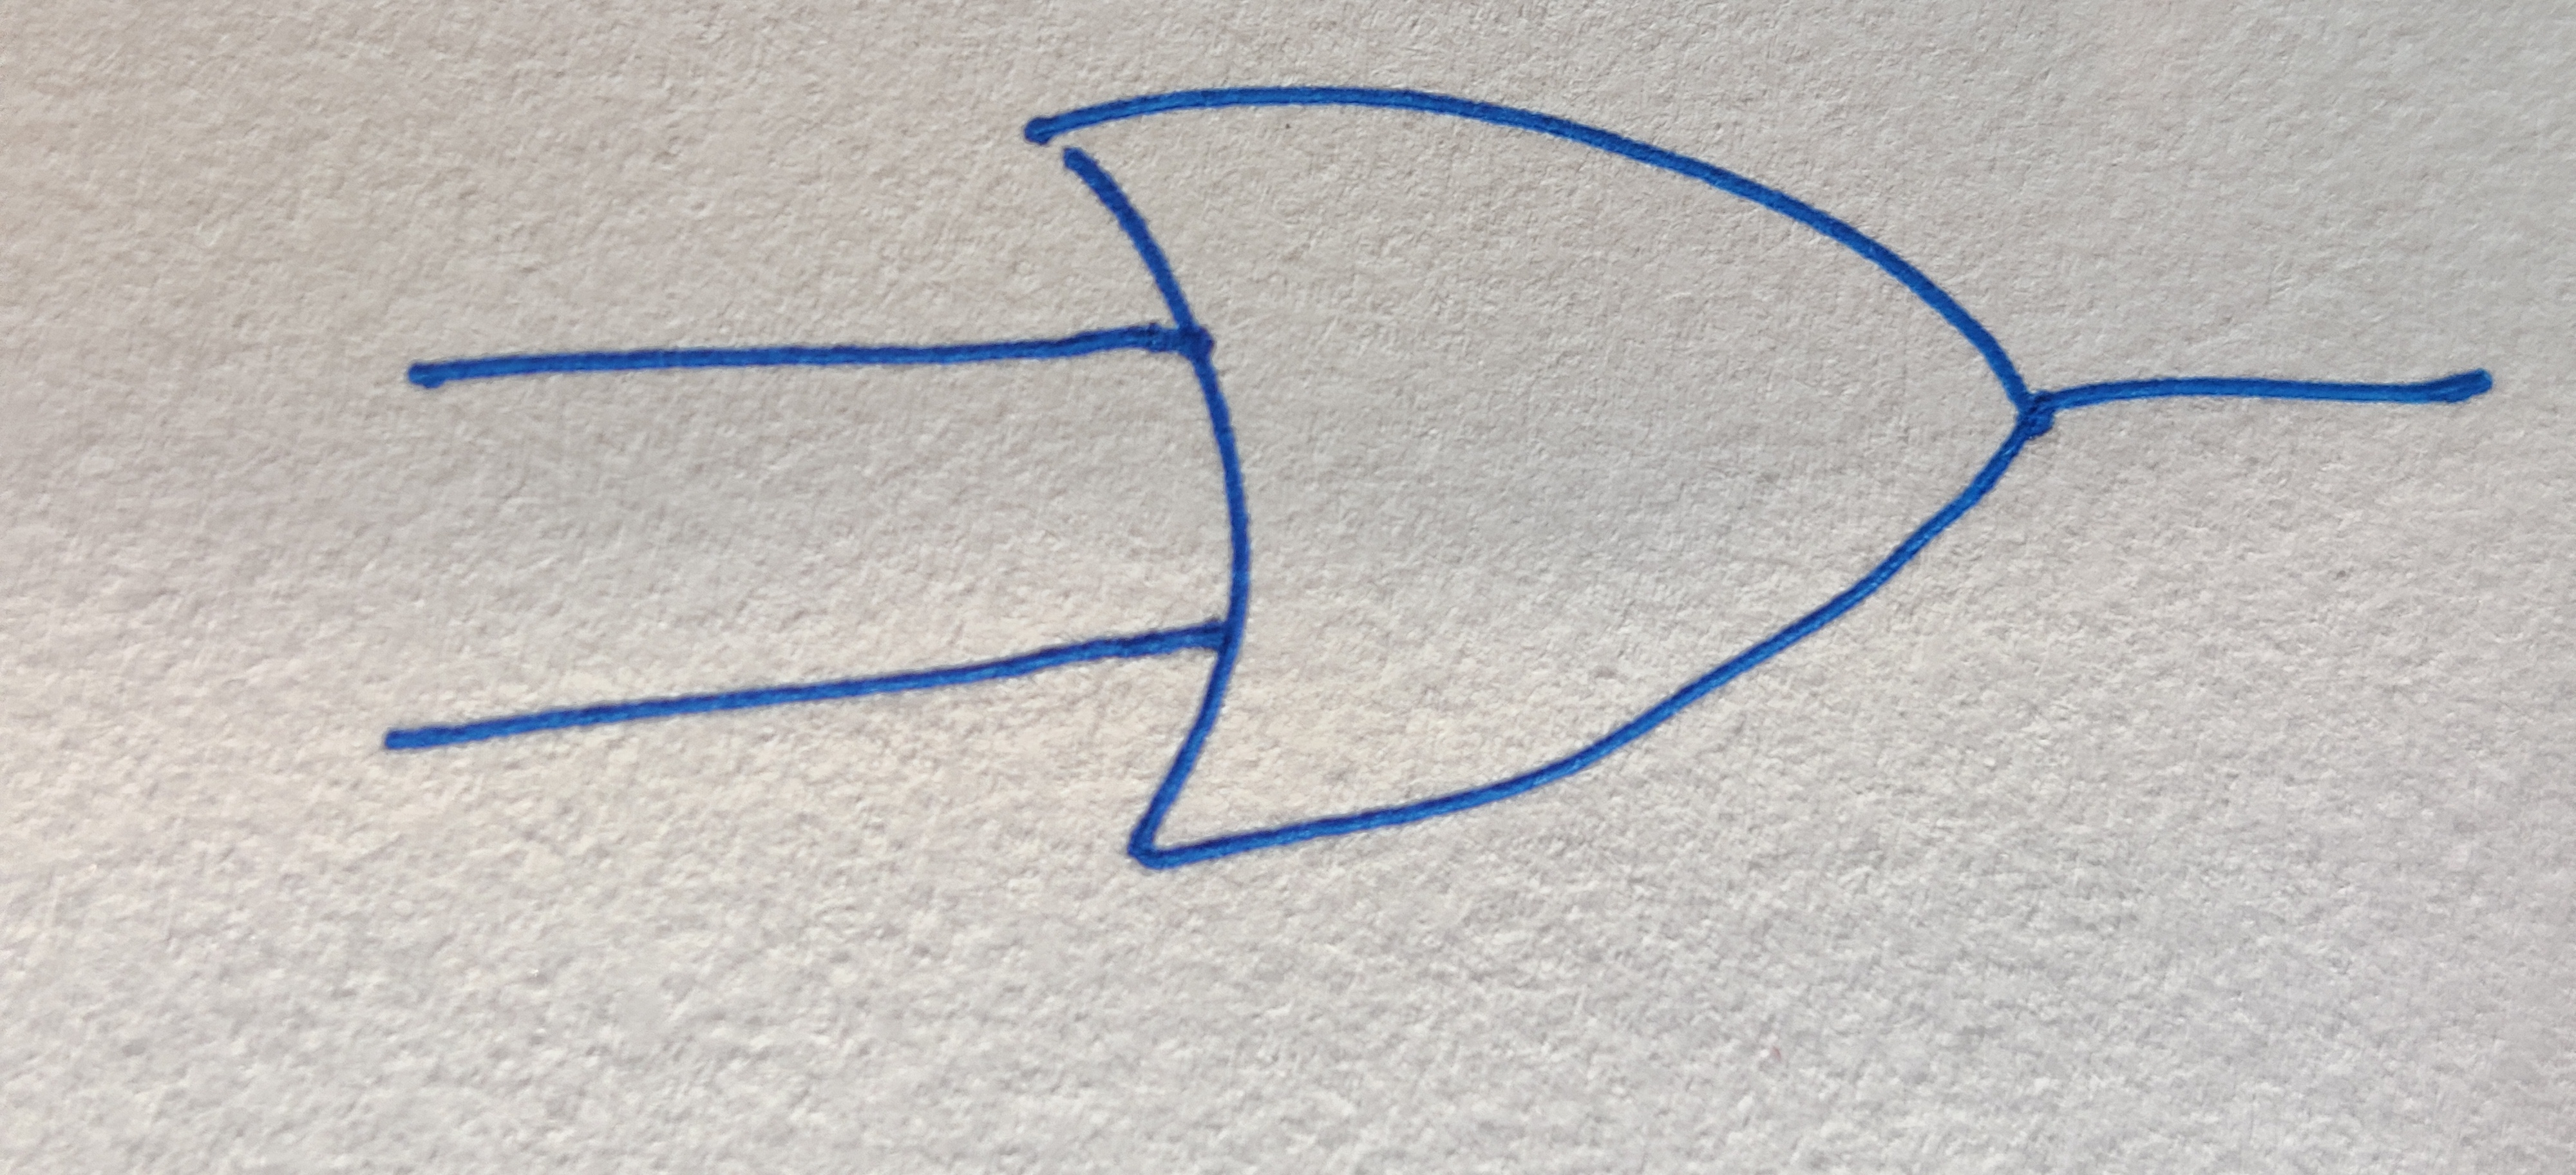or: (1025, 84, 2045, 869)
